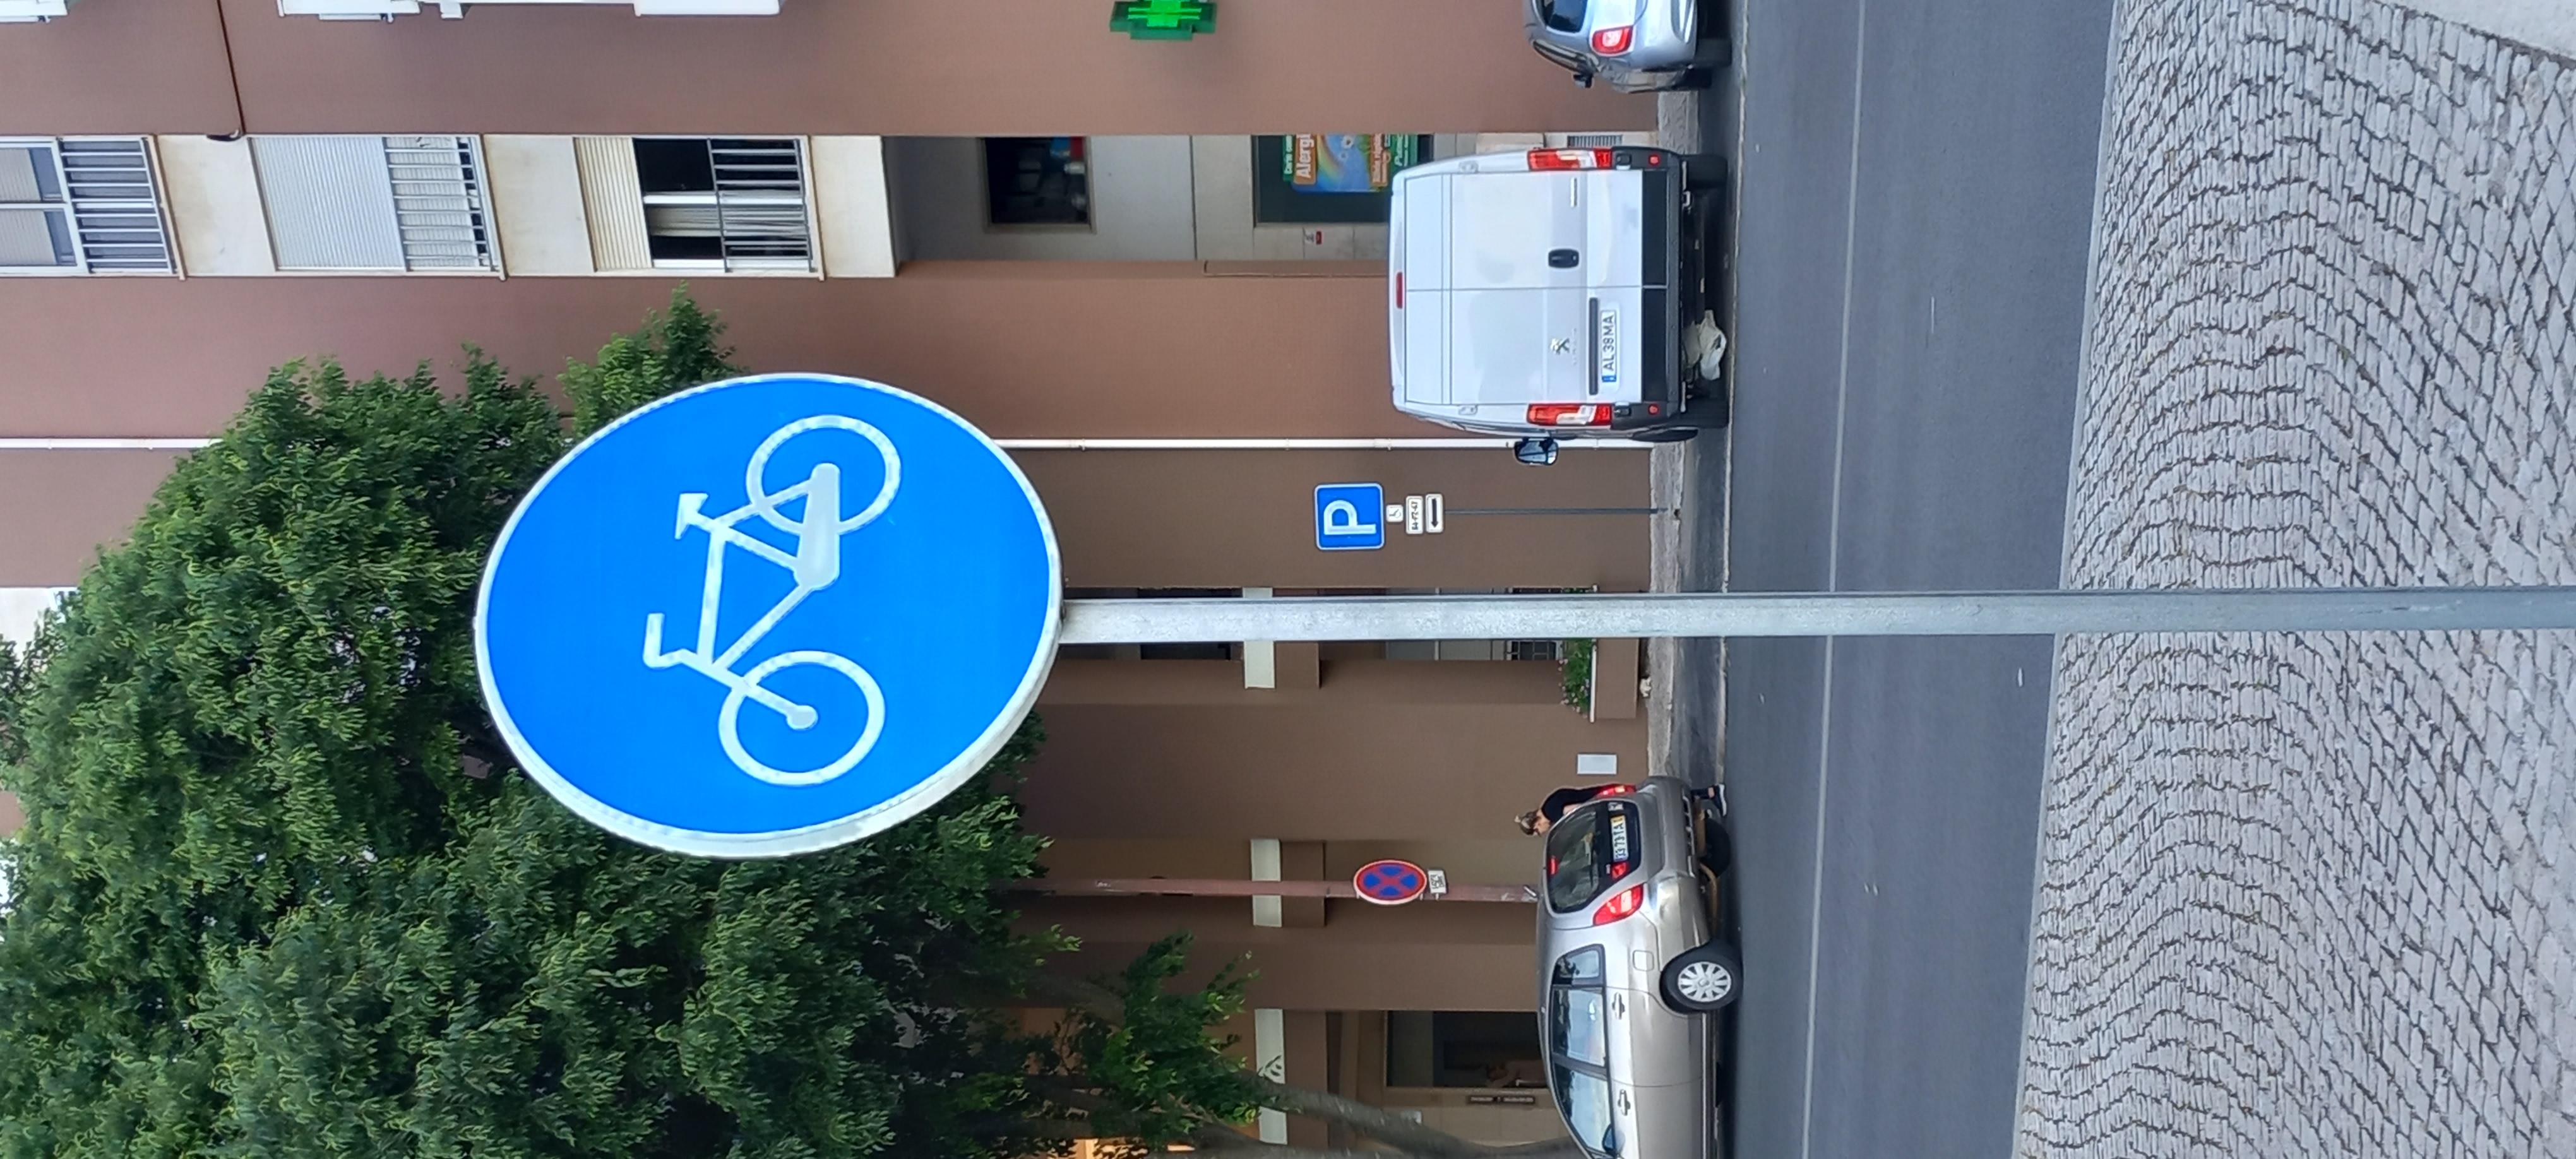Pista obrigatoria para velocipedes: (476, 179, 2042, 492)
